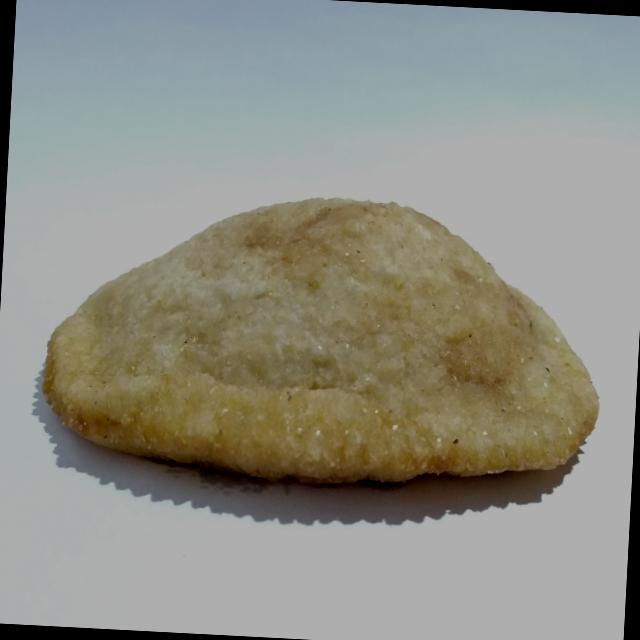Pastel_Mandio: (26, 183, 614, 514)
